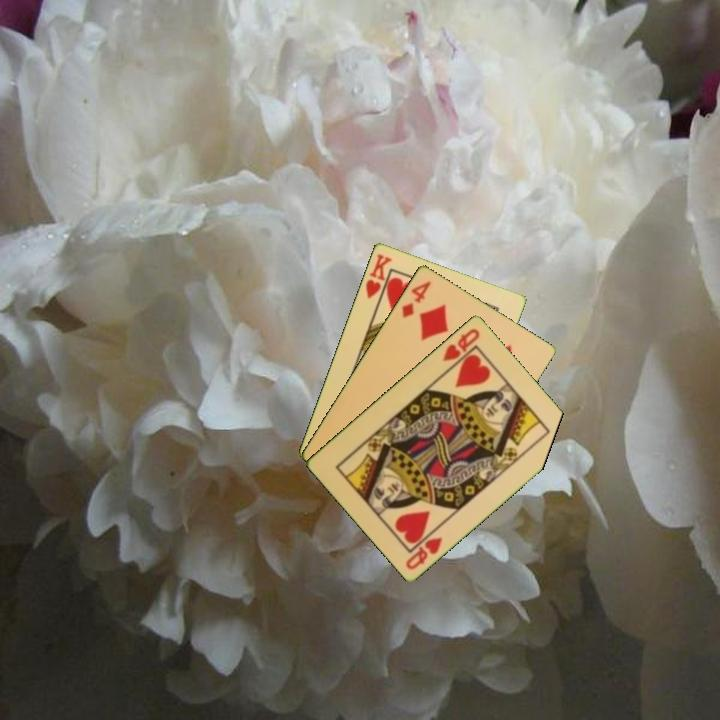4d: (398, 277, 434, 320)
Kh: (362, 250, 395, 307)
Qh: (439, 325, 483, 364), (402, 533, 445, 572)
